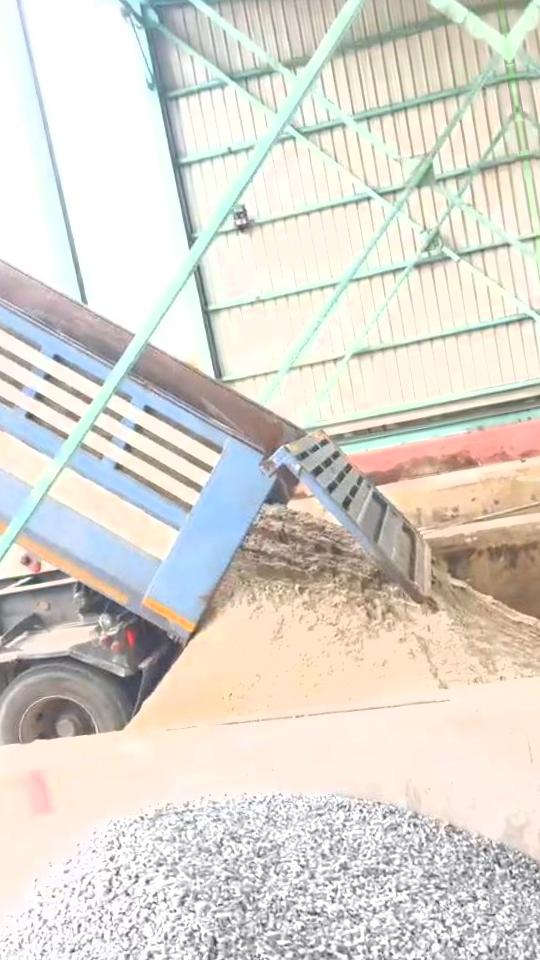gravel: (0, 794, 540, 960)
sand: (132, 507, 540, 726)
